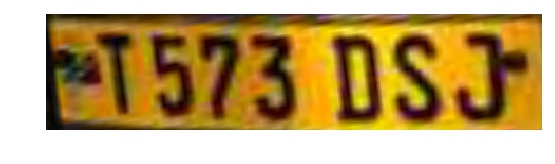T: (91, 25, 146, 118)
